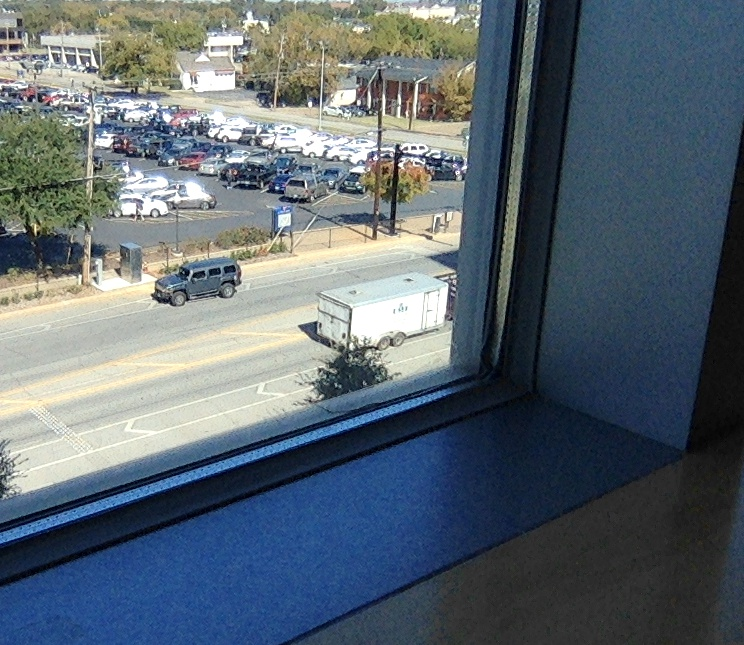car: (300, 300, 444, 345)
